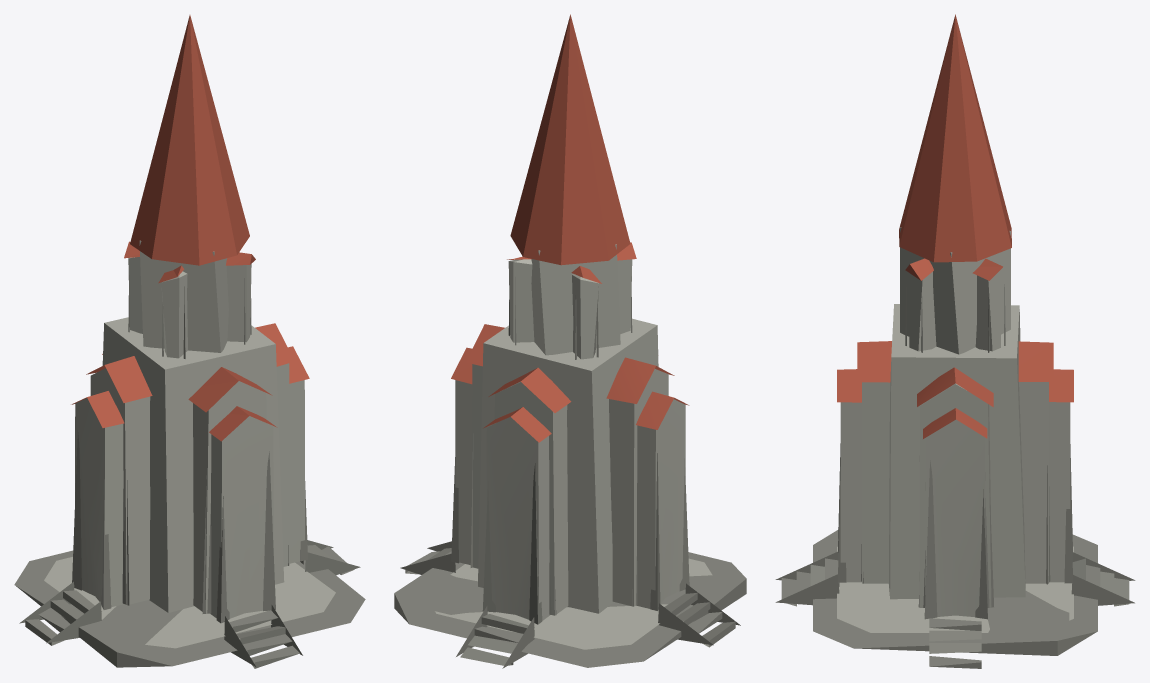
Rendered from Temple_SecondAge_Level2  LOD2.fbx.
The picture shows the model from 3 angles, left to right: view 1: azimuth 30°, elevation 25°; view 2: azimuth 150°, elevation 25°; view 3: azimuth 270°, elevation 25°; orthographic projection.
Parts seen in each view (by area): view 1: Temple_SecondAge_Level2; view 2: Temple_SecondAge_Level2; view 3: Temple_SecondAge_Level2.
Boxes of the visible parts, x1,y1,x2,y2 form: Temple_SecondAge_Level2: [14, 15, 365, 668]; Temple_SecondAge_Level2: [394, 14, 746, 668]; Temple_SecondAge_Level2: [775, 14, 1135, 668].
Bounding box in the file's own units: 221 × 393 × 221.
